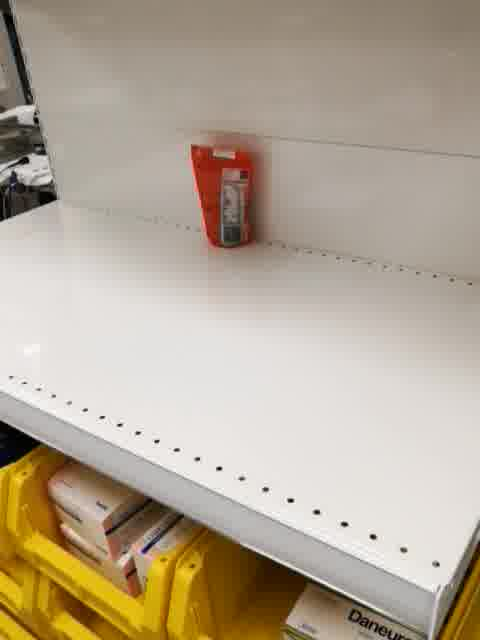whitechia: (187, 142, 260, 247)
